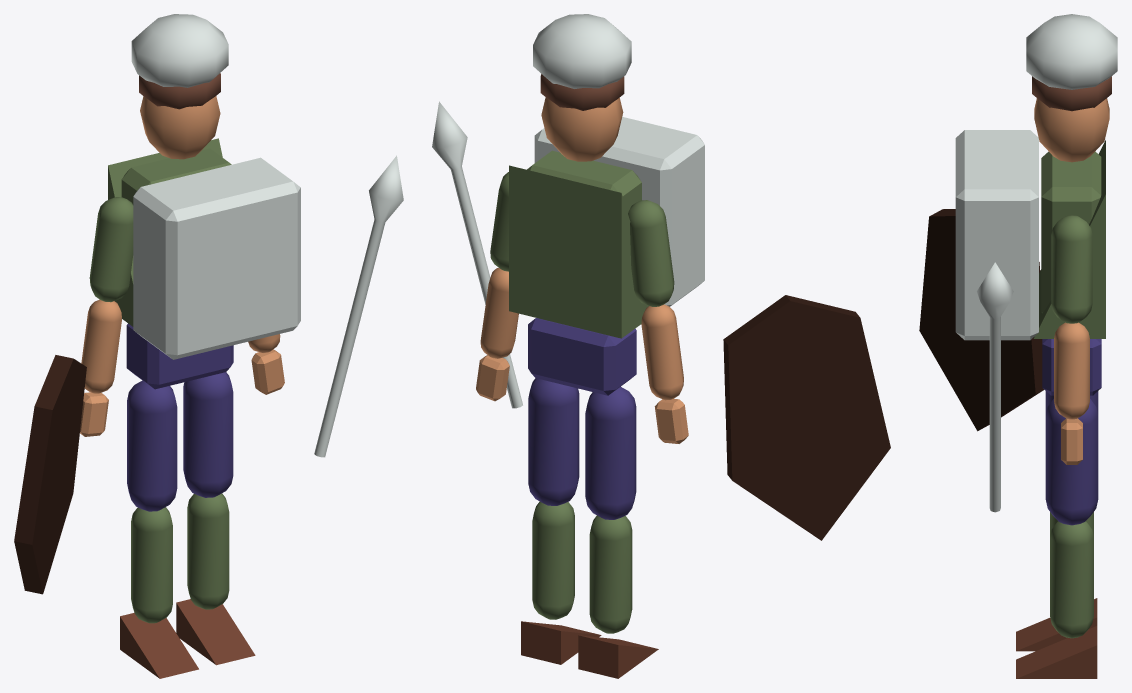
Rendered from adventurer.rustic.glb.
3 renders of one model, left to right at view 1: azimuth 30°, elevation 25°; view 2: azimuth 150°, elevation 25°; view 3: azimuth 270°, elevation 25°, orthographic.
Parts seen in each view (by area): view 1: accessory.body, accessory.off-hand, thigh.left, thigh.right, accessory.head, shin.right, shin.left, accessory.main-hand, upper-arm.left, head, pelvis, foot.right (+7 smaller); view 2: accessory.off-hand, tunic, accessory.body, pelvis, thigh.left, thigh.right, accessory.head, shin.left, shin.right, upper-arm.left, head, accessory.main-hand (+9 smaller); view 3: accessory.body, accessory.off-hand, accessory.head, thigh.right, shin.right, torso, upper-arm.right, accessory.main-hand, head, forearm.right, tunic, foot.right (+4 smaller).
Part boxes in pixels (x1,y1,x2,y2): accessory.body: [133, 157, 300, 359]; accessory.off-hand: [14, 355, 86, 594]; thigh.left: [127, 380, 177, 511]; thigh.right: [183, 372, 233, 497]; accessory.head: [131, 14, 228, 87]; shin.right: [187, 493, 229, 609]; shin.left: [131, 507, 172, 623]; accessory.main-hand: [314, 155, 403, 457]; upper-arm.left: [89, 197, 133, 302]; head: [140, 96, 220, 159]; pelvis: [126, 323, 233, 389]; foot.right: [176, 599, 255, 665]; accessory.off-hand: [723, 295, 890, 540]; tunic: [509, 165, 648, 338]; accessory.body: [534, 117, 704, 306]; pelvis: [528, 318, 636, 395]; thigh.left: [585, 386, 636, 519]; thigh.right: [528, 378, 579, 505]; accessory.head: [533, 14, 631, 88]; shin.left: [589, 515, 632, 633]; shin.right: [532, 501, 574, 619]; upper-arm.left: [628, 200, 674, 306]; head: [541, 97, 623, 161]; accessory.main-hand: [432, 101, 522, 408]; accessory.body: [955, 130, 1038, 340]; accessory.off-hand: [919, 209, 1044, 431]; accessory.head: [1026, 14, 1117, 89]; thigh.right: [1045, 399, 1098, 525]; shin.right: [1050, 521, 1093, 638]; torso: [1041, 151, 1101, 312]; upper-arm.right: [1051, 215, 1092, 323]; accessory.main-hand: [977, 262, 1013, 512]; head: [1034, 98, 1109, 162]; forearm.right: [1054, 322, 1089, 419]; tunic: [1033, 140, 1105, 338]; foot.right: [1016, 626, 1097, 678].
Bounding box in the file's own units: 2.23 × 3.2 × 0.9041.
